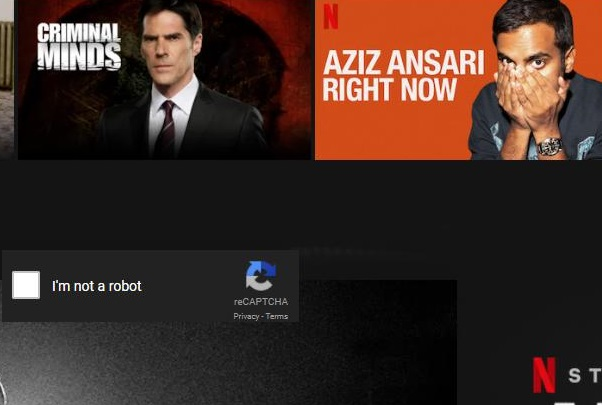captcha: (11, 271, 146, 300)
